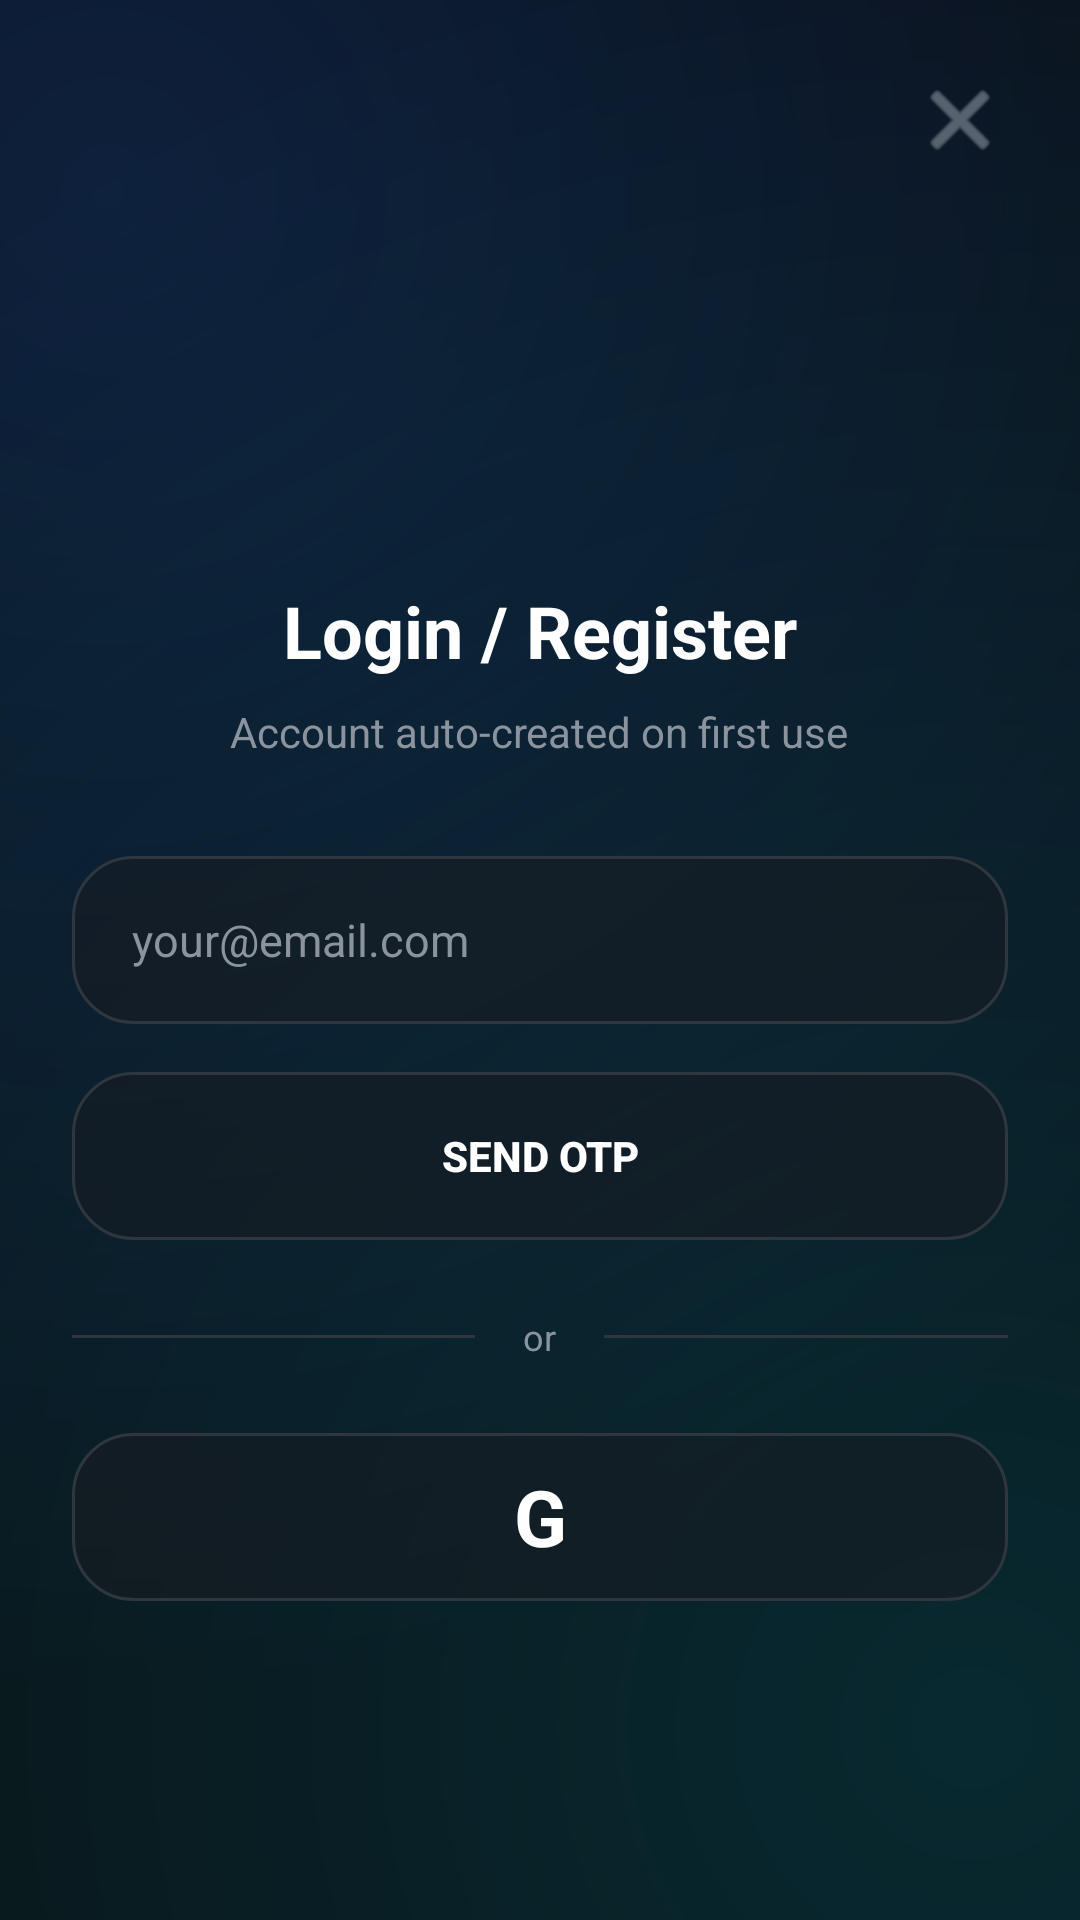

Named icons in this screenshot (1080 × 1920) and their centers, (x,y):
close clear cancel: (960,120)
